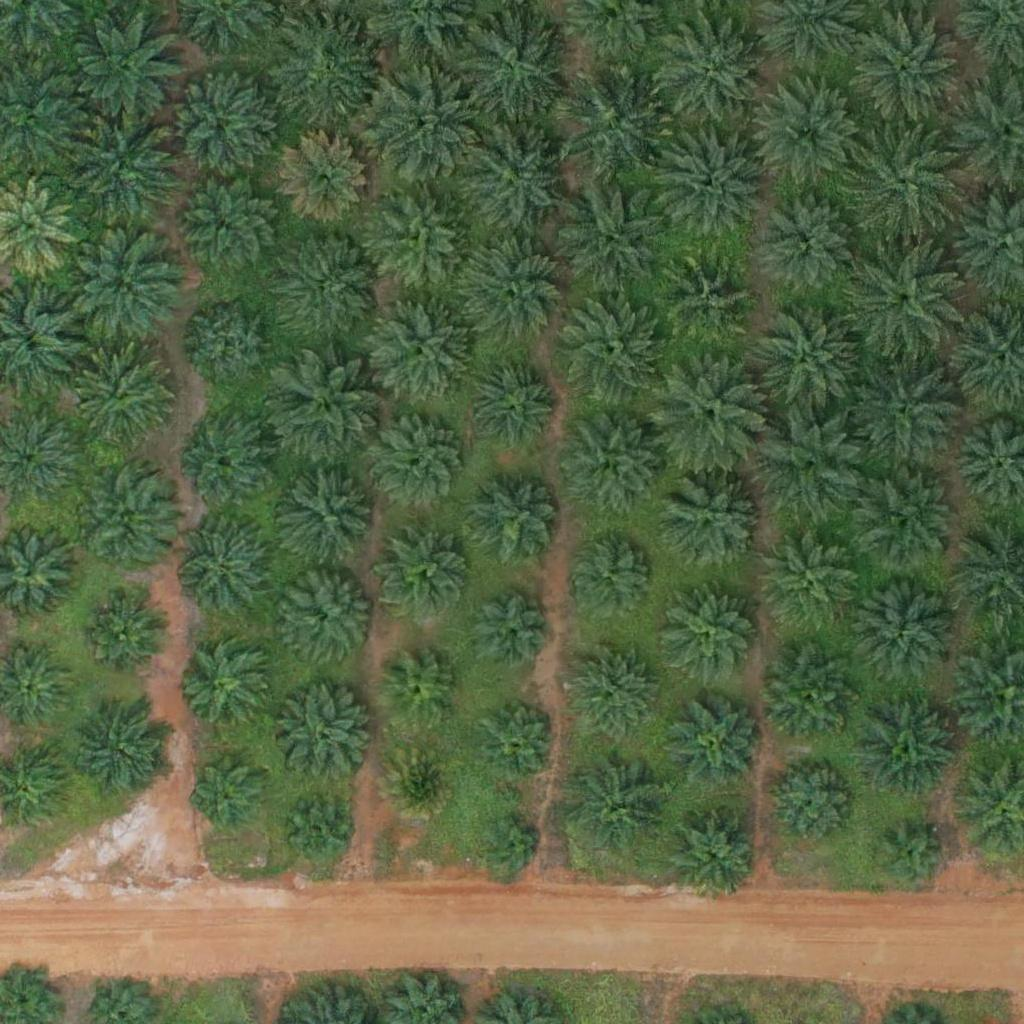Kelapa_Sawit: (69, 11, 182, 125), (66, 234, 179, 348), (367, 69, 480, 182), (660, 19, 773, 132), (753, 78, 866, 191), (848, 245, 961, 358), (847, 350, 960, 463), (750, 299, 863, 412), (459, 122, 572, 235), (67, 109, 180, 222), (849, 16, 961, 130), (273, 14, 385, 127), (455, 8, 567, 121), (556, 68, 668, 181), (844, 125, 956, 238), (756, 406, 868, 519), (654, 355, 766, 468), (553, 294, 665, 407), (653, 122, 765, 235), (557, 181, 669, 294), (275, 357, 387, 470), (862, 471, 962, 572), (856, 579, 956, 680), (857, 701, 957, 802), (763, 528, 863, 629), (762, 645, 862, 746), (661, 470, 761, 571), (660, 586, 760, 687), (564, 414, 664, 515), (461, 236, 561, 337), (372, 187, 472, 288), (179, 173, 279, 274), (281, 233, 381, 334), (74, 701, 174, 802), (171, 73, 271, 173), (663, 803, 763, 903), (569, 753, 669, 853), (371, 299, 471, 399), (369, 410, 469, 510), (73, 349, 173, 449), (77, 481, 177, 581), (279, 567, 379, 667), (275, 685, 375, 785), (664, 256, 752, 345), (768, 759, 856, 847), (382, 530, 470, 618), (279, 134, 367, 222), (285, 470, 373, 558), (86, 591, 174, 679), (673, 699, 760, 787), (567, 530, 654, 618), (569, 642, 656, 730), (466, 360, 553, 448), (472, 479, 559, 567), (765, 199, 852, 287), (187, 301, 274, 389), (188, 419, 275, 507), (179, 525, 266, 613), (185, 644, 272, 732), (382, 655, 457, 731), (472, 594, 547, 670), (874, 818, 949, 894), (479, 703, 554, 779), (383, 744, 458, 820), (281, 793, 356, 869), (191, 752, 266, 827), (481, 816, 543, 879)
